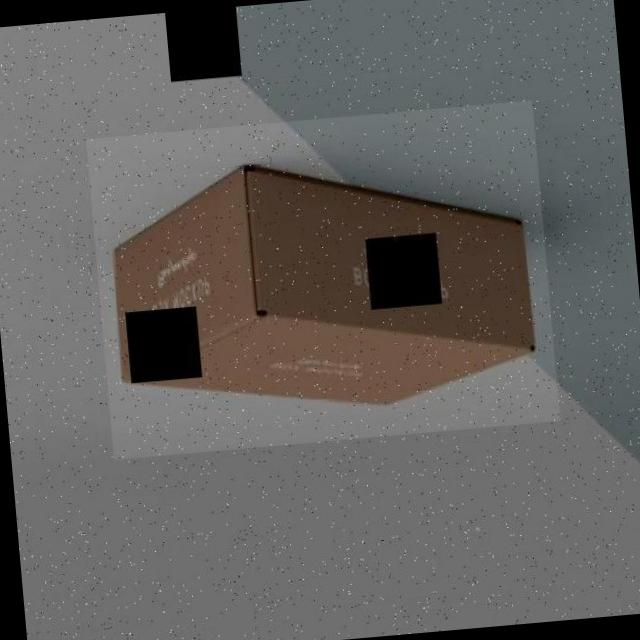box: (86, 100, 560, 460)
